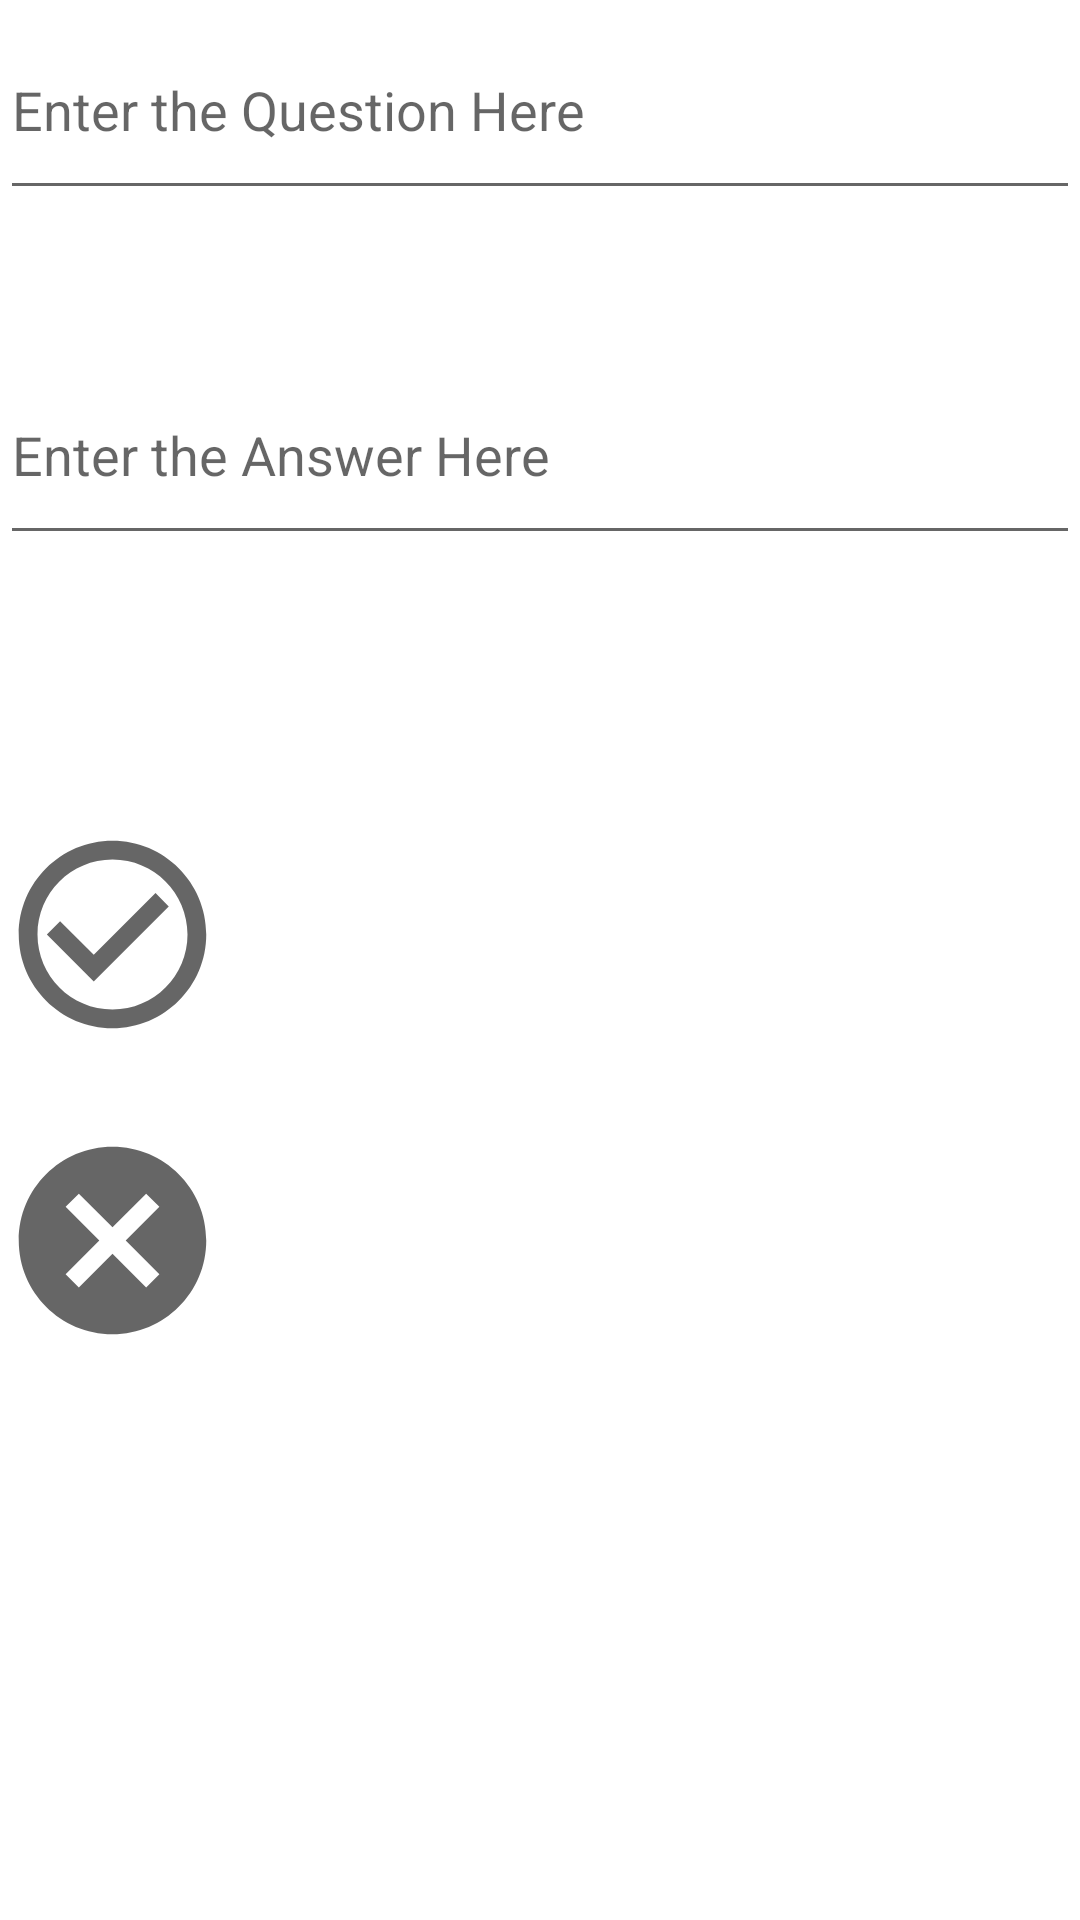

Icons on this 1080 × 1920 Android screen, each with its box as [x1=x1, y1=y1, x2=x2, y2=y2]:
cancel: [x1=18, y1=1146, x2=207, y2=1335]
save: [x1=18, y1=840, x2=207, y2=1029]
